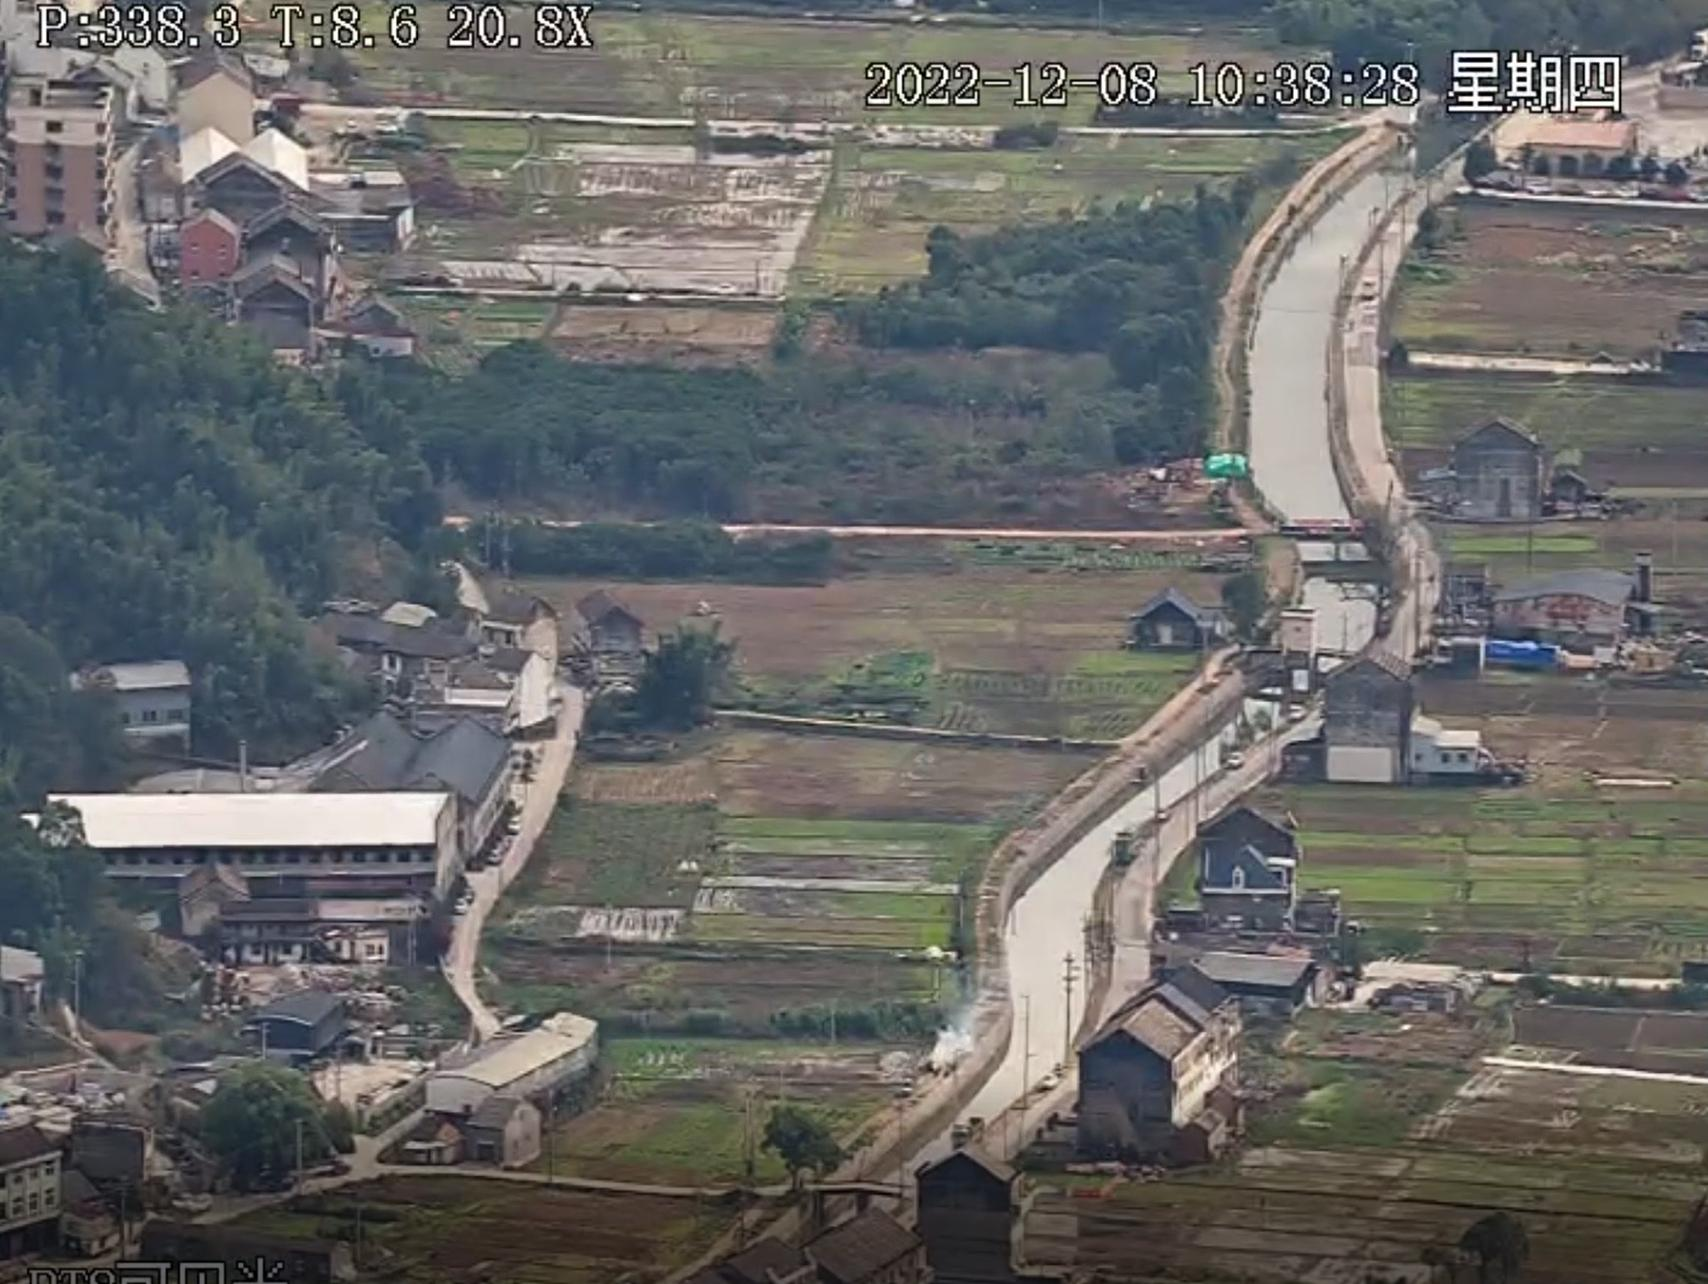Smoke: (929, 1016, 971, 1074)
